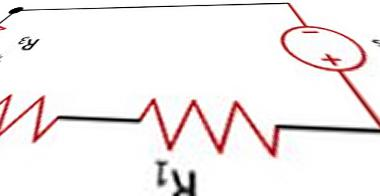resistor: (111, 94, 304, 147), (1, 82, 82, 145)
